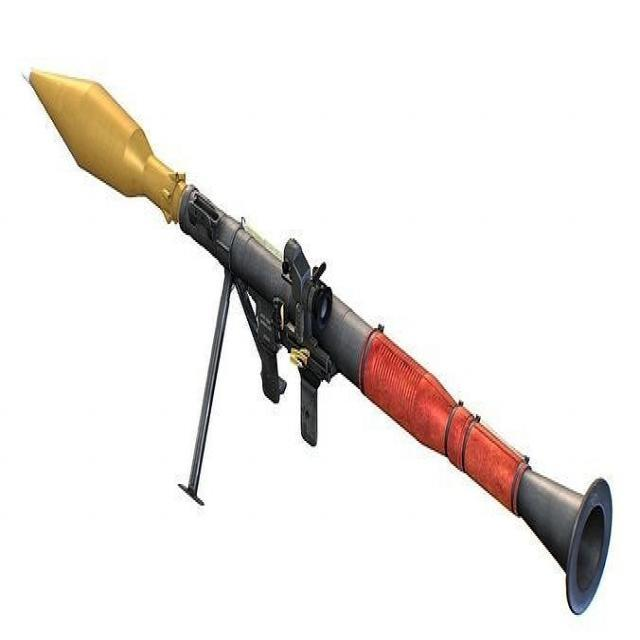rocket launcher: (20, 56, 640, 640)
